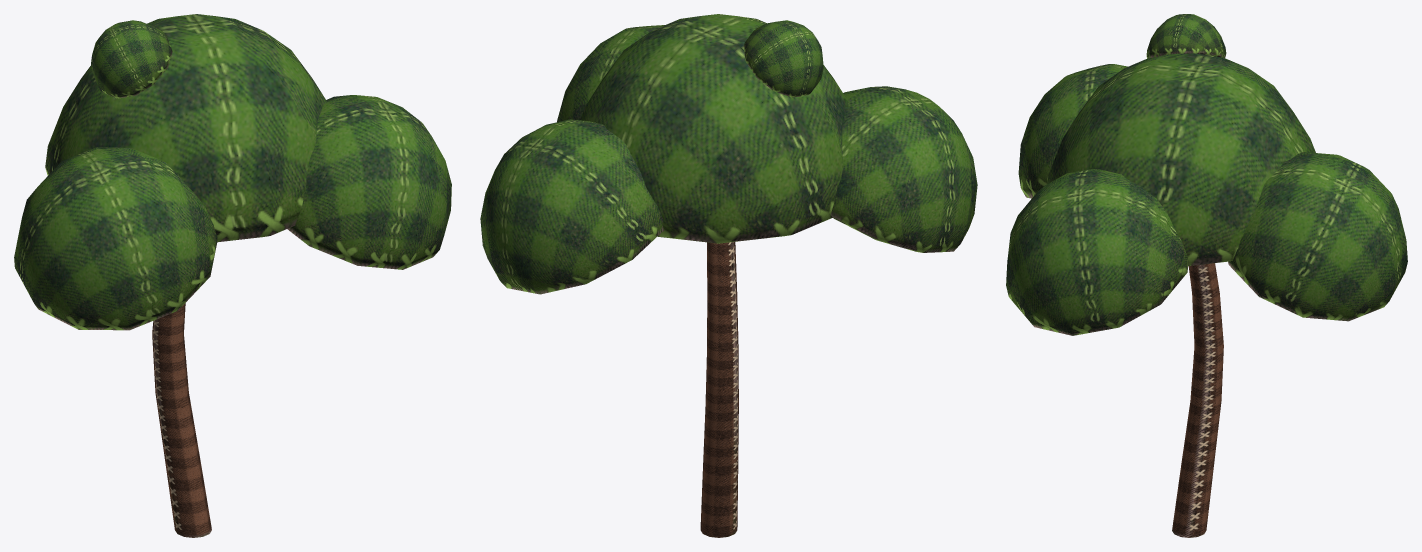
File: lpb_cs_tree26.fbx
3 renders of one model, left to right at view 1: azimuth 30°, elevation 25°; view 2: azimuth 150°, elevation 25°; view 3: azimuth 270°, elevation 25°, orthographic. The views are drawn at different scales.
Parts seen in each view (by area): view 1: lpb_cs_tree26; view 2: lpb_cs_tree26; view 3: lpb_cs_tree26.
Part boxes in pixels (x1,y1,x2,y2): lpb_cs_tree26: (14, 14, 451, 537); lpb_cs_tree26: (480, 14, 977, 537); lpb_cs_tree26: (1006, 14, 1407, 537).
Size of the model in its own units: 172 by 214 by 161.
